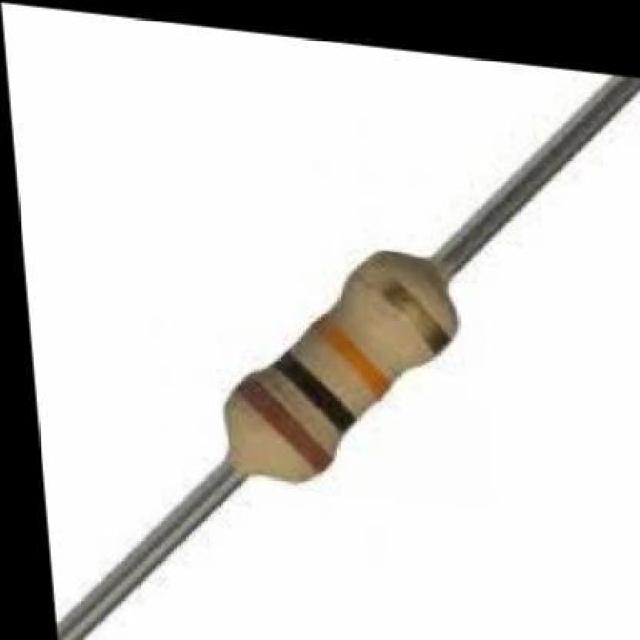Resistor: (59, 79, 640, 640)
